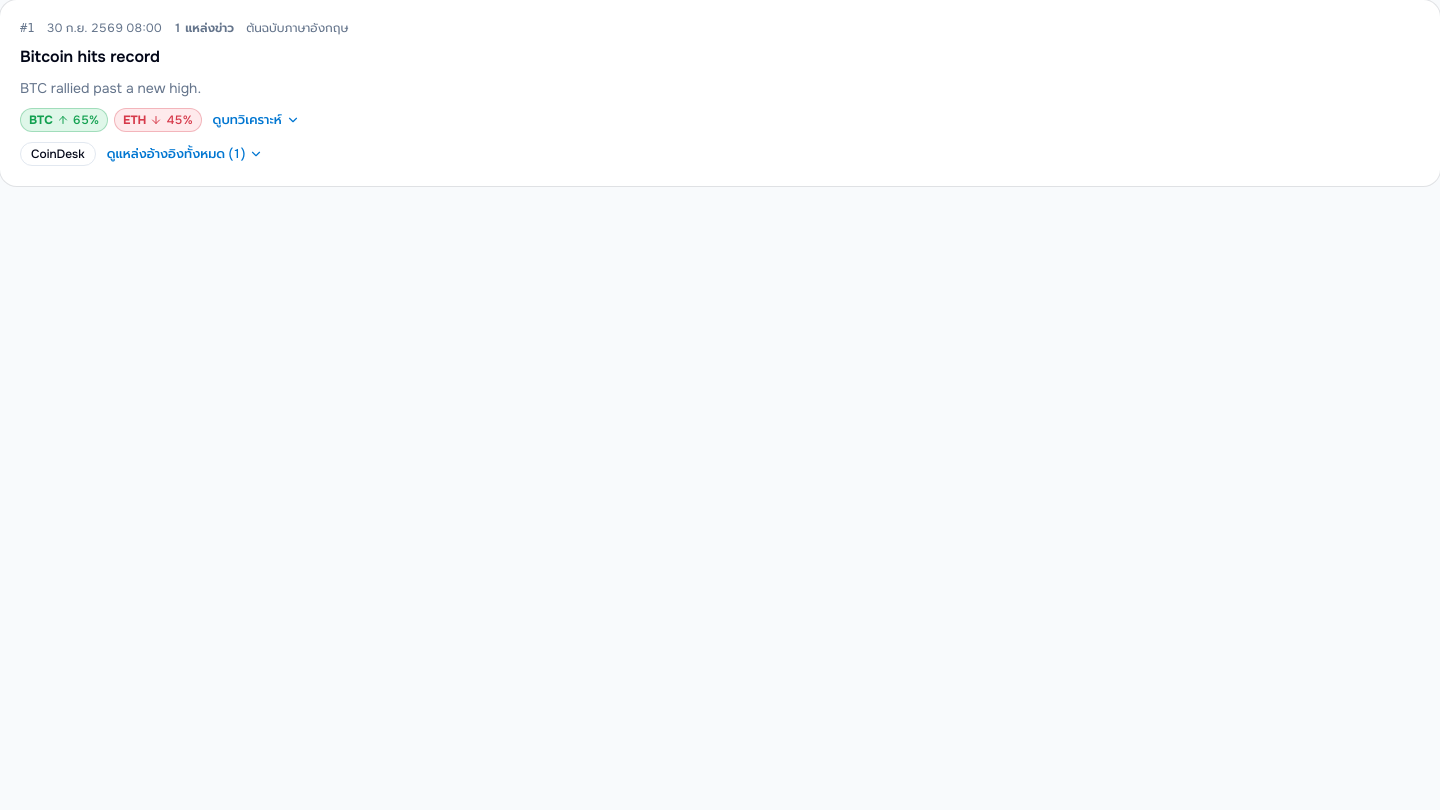
Scenario: AI analysis on a news card › the chart side › notes the index on analyses made before real prices were sent
The width and height of the screenshot is (1440, 810).
Click the button "ดูบทวิเคราะห์" at (256, 120), box [208,108,305,132]
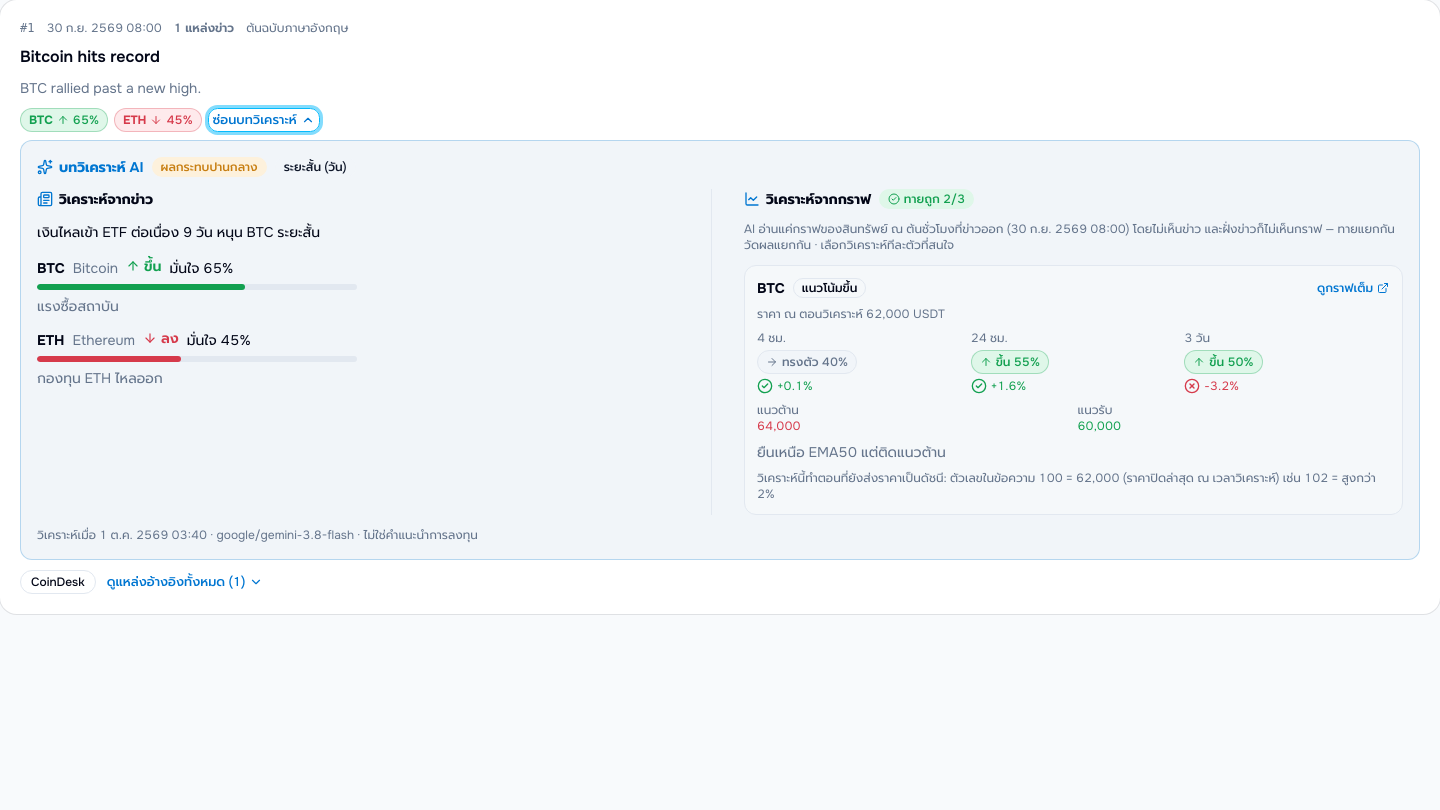
Result: the text "ตอนที่ยังส่งราคาเป็นดัชนี: ตัวเลขในข้อความ 100 = 62,000" is shown at [757,470,1376,502]
